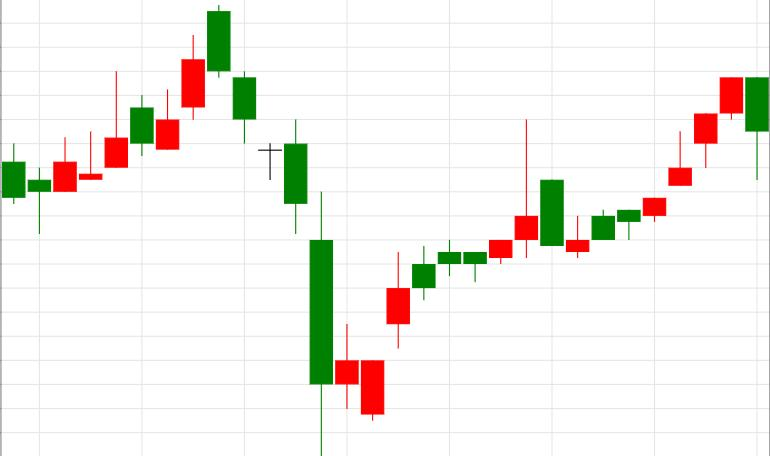bearish_engulfing_fall: (566, 78, 770, 259)
shooting_star_fall: (335, 120, 538, 421)
